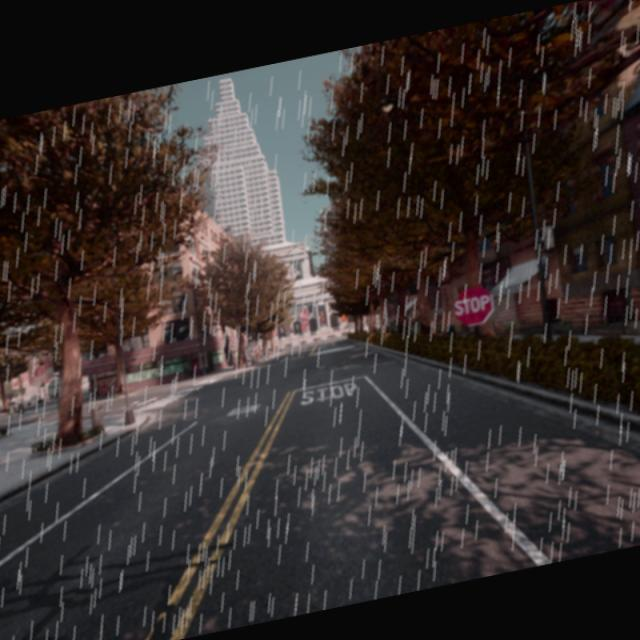stop sign: (451, 282, 495, 328), (454, 293, 491, 316)
